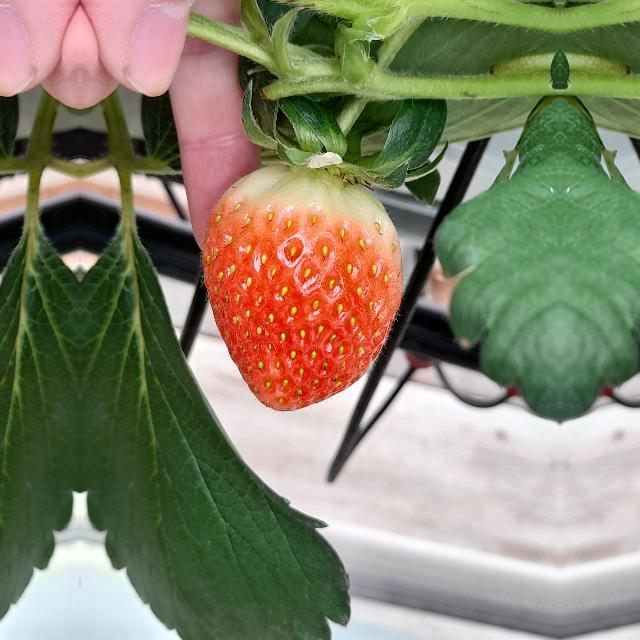Health_100: (202, 163, 402, 411)
